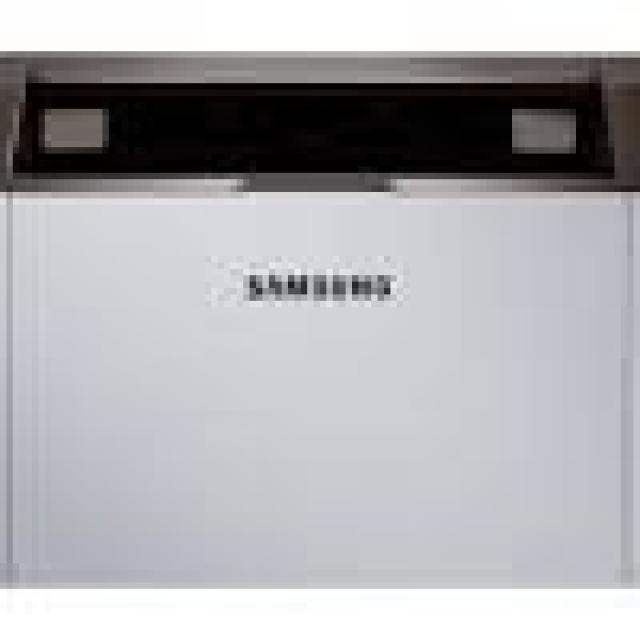printer: (3, 41, 640, 592)
